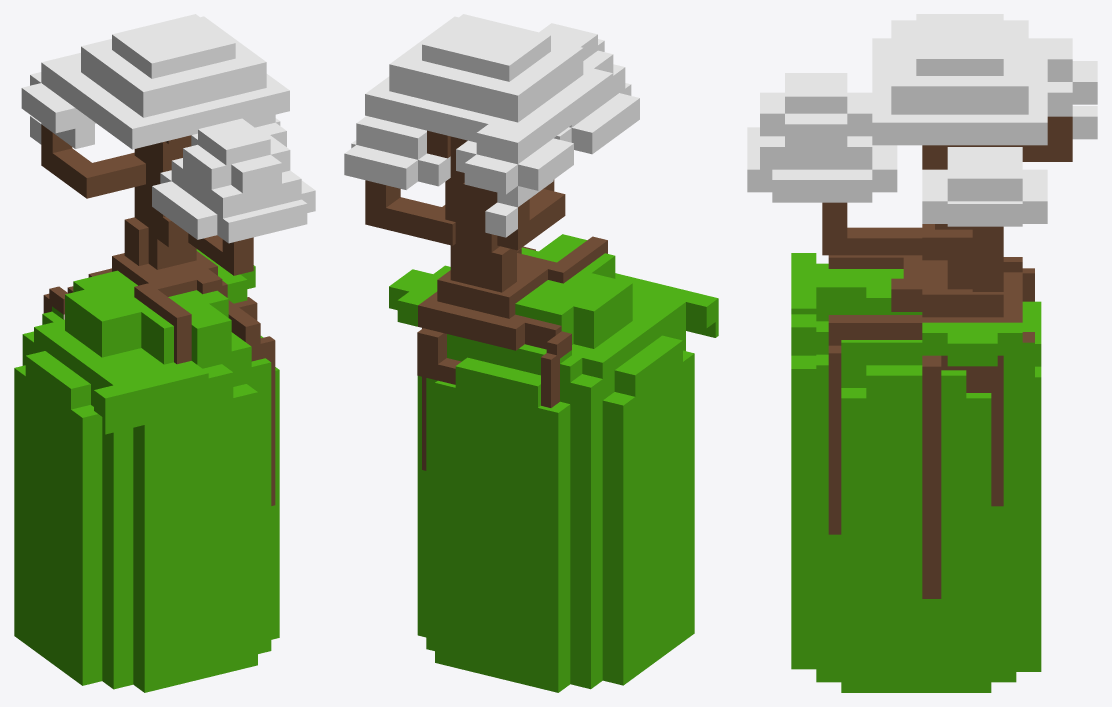
File: rock and tree.fbx
3 renders of one model, left to right at view 1: azimuth 30°, elevation 25°; view 2: azimuth 150°, elevation 25°; view 3: azimuth 270°, elevation 25°, orthographic. The views are drawn at different scales.
Parts seen in each view (by area): view 1: half size map005; view 2: half size map005; view 3: half size map005.
Boxes of the visible parts, x1,y1,x2,y2 form: half size map005: (14, 14, 315, 692); half size map005: (344, 14, 718, 692); half size map005: (747, 14, 1097, 692).
Size of the model in its own units: 50 by 111 by 56.
2 materials, 1 textured.
